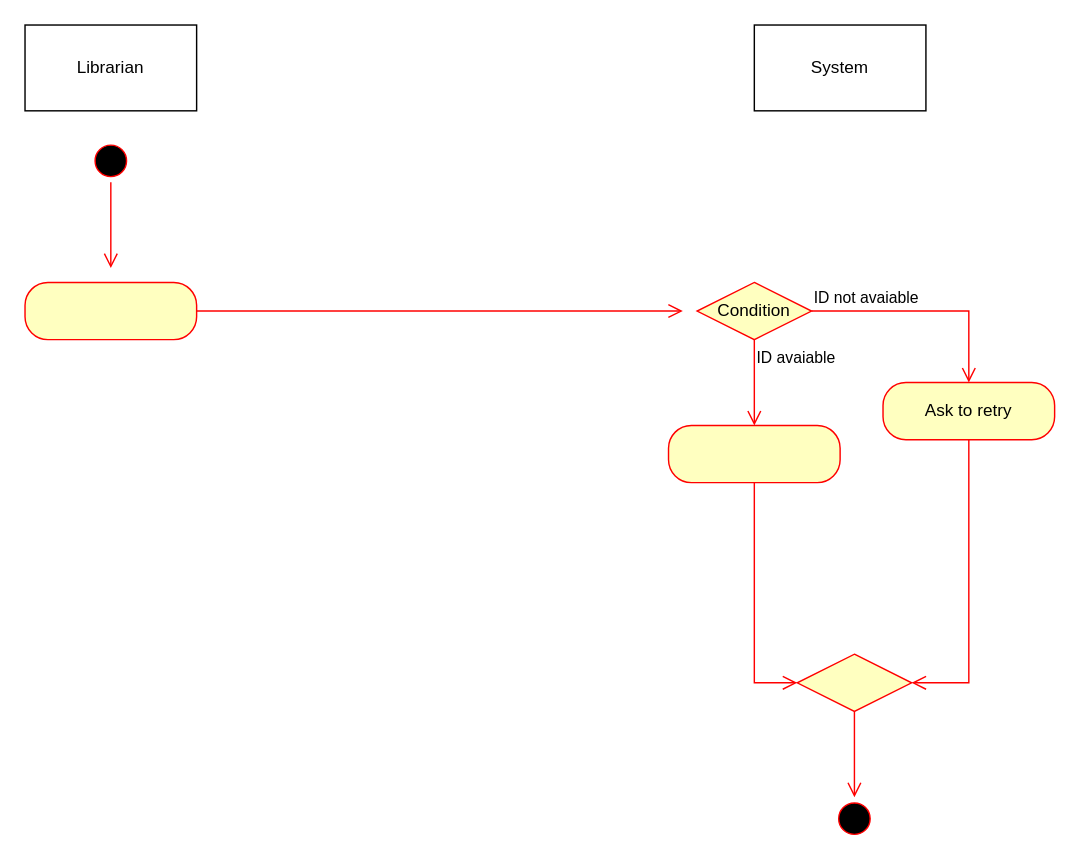
Some shapes in this 1080 by 865 pixel diagram are drawn without their labels. Each missing label, with the box of its shape:
Add ID to database: (667, 424, 840, 483)
Enter Member ID: (24, 281, 197, 340)
